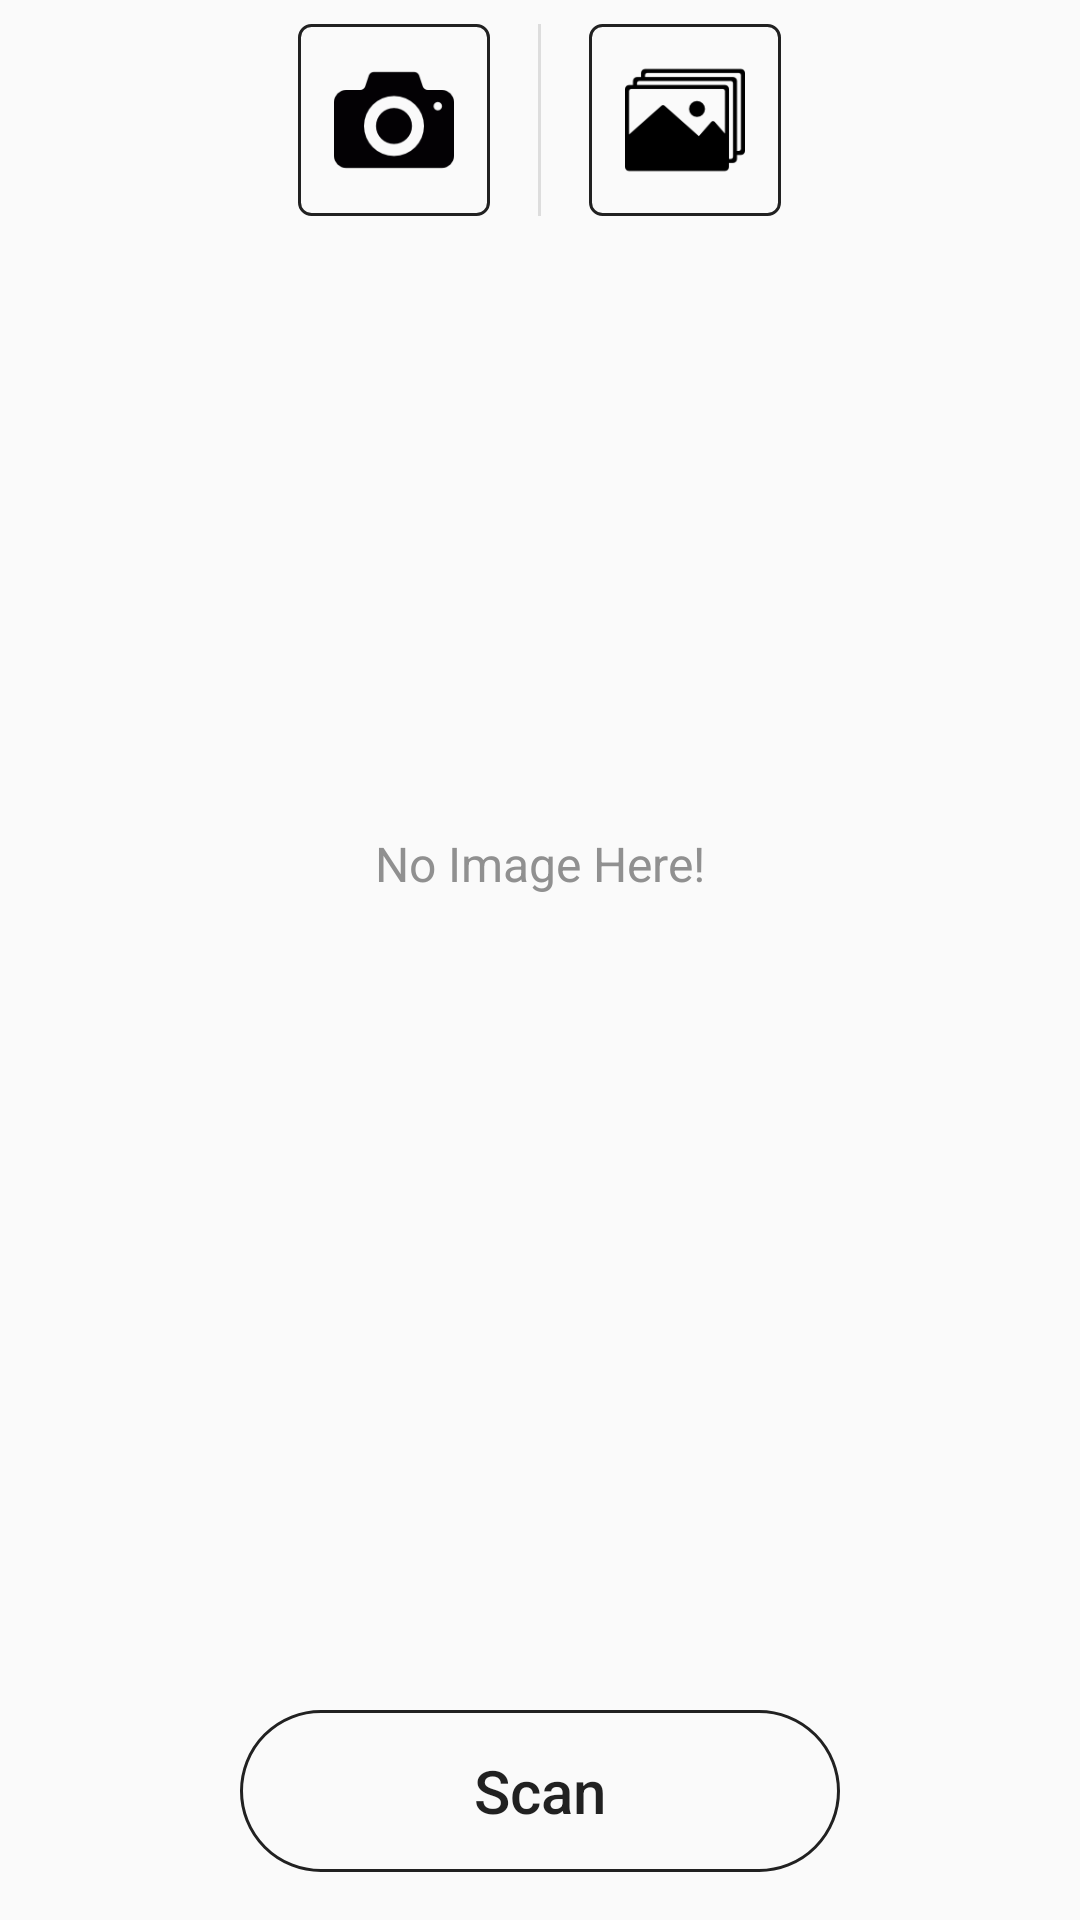

Icons on this 1080px x 1920px Android screen, each with the point to tap as [x,y]:
gallery: [685,120]
